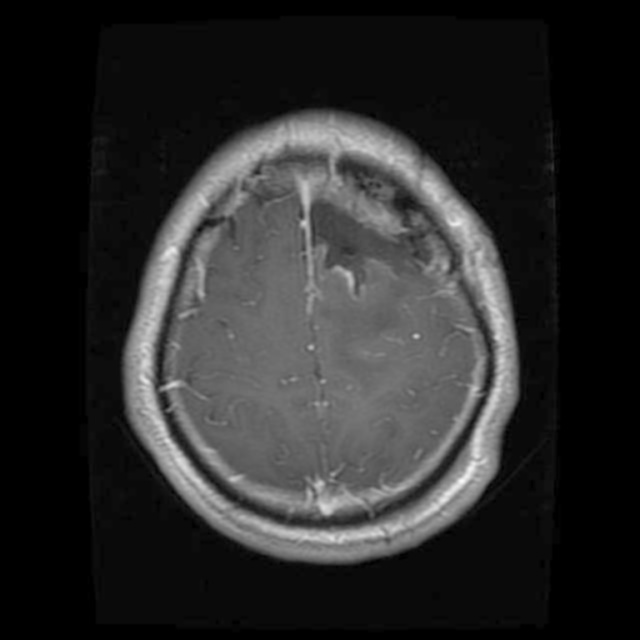pituitary tumor: (311, 200, 410, 285)
